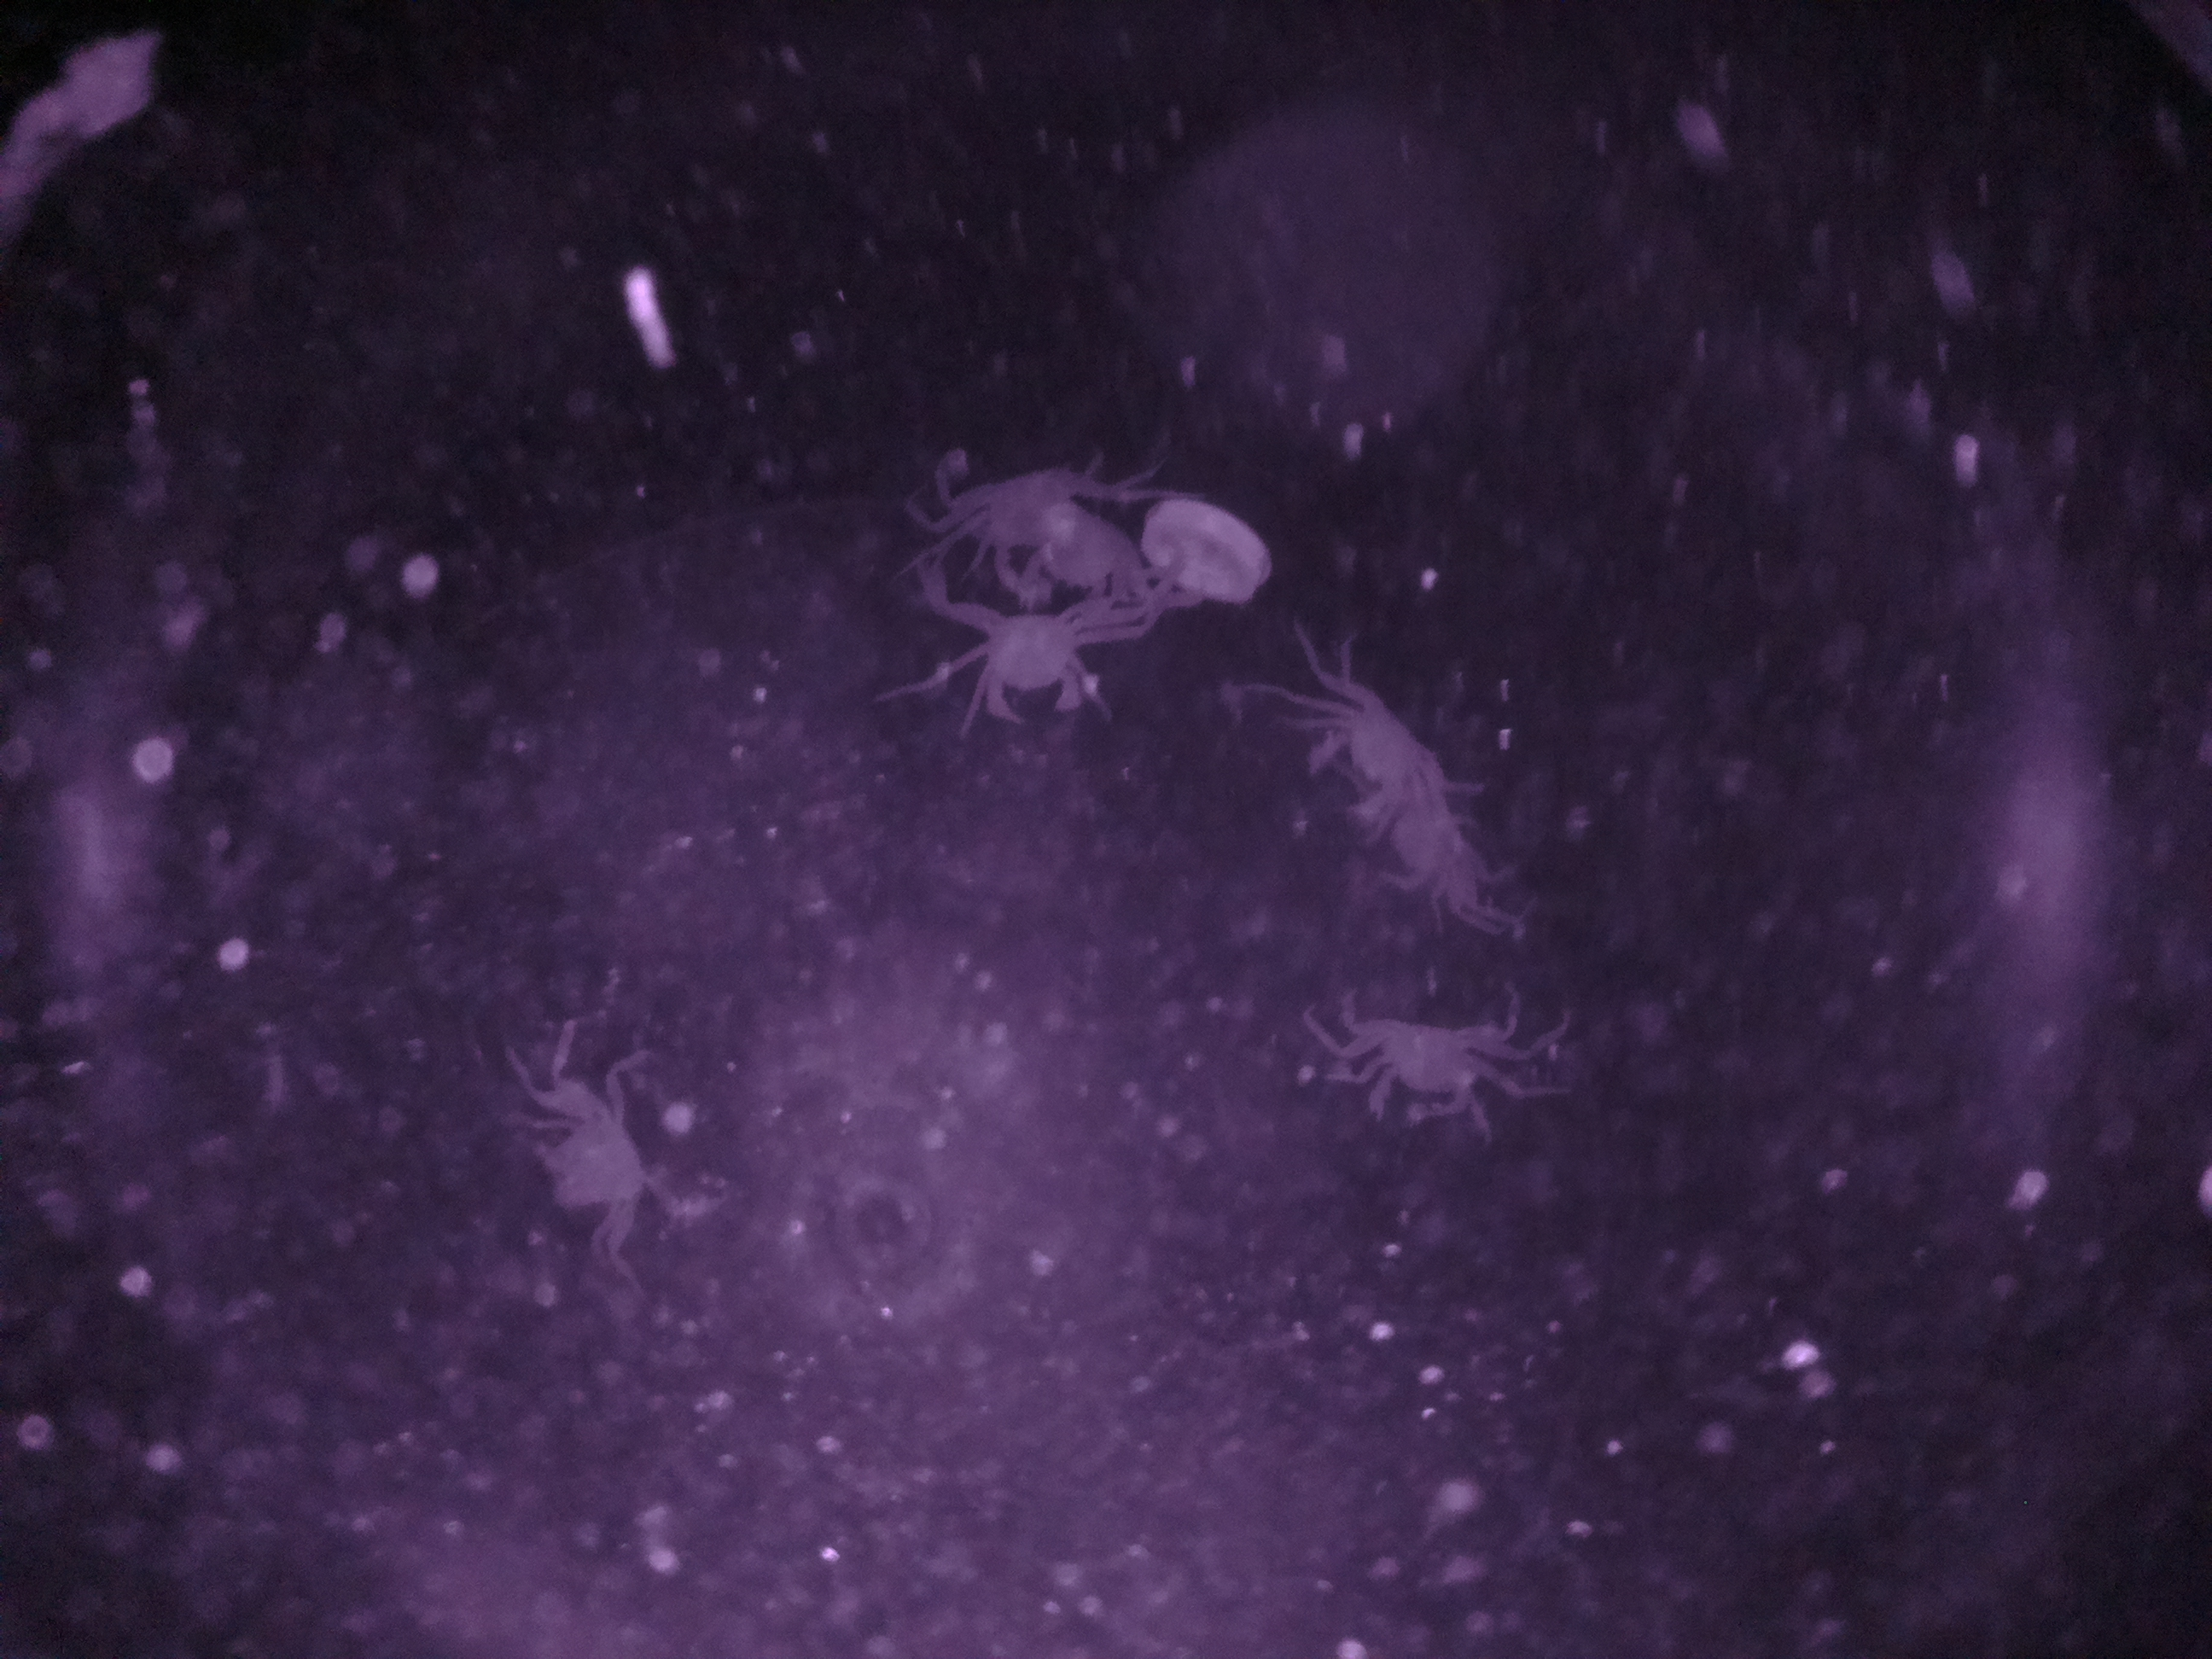Crab: (1280, 964, 1585, 1136), (941, 587, 1125, 749)
